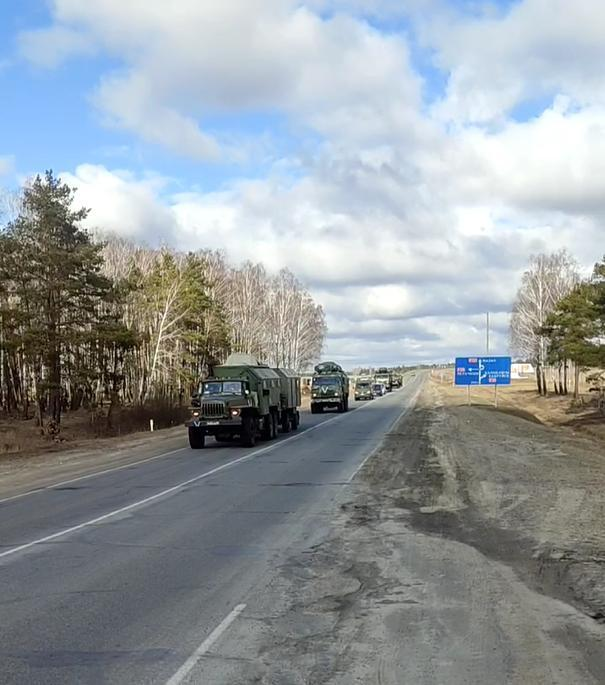truck: (184, 360, 301, 456), (298, 366, 350, 421)
